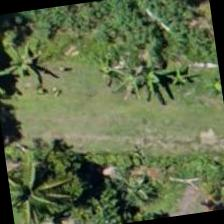Kelapa_Sawit: (4, 140, 81, 223)
